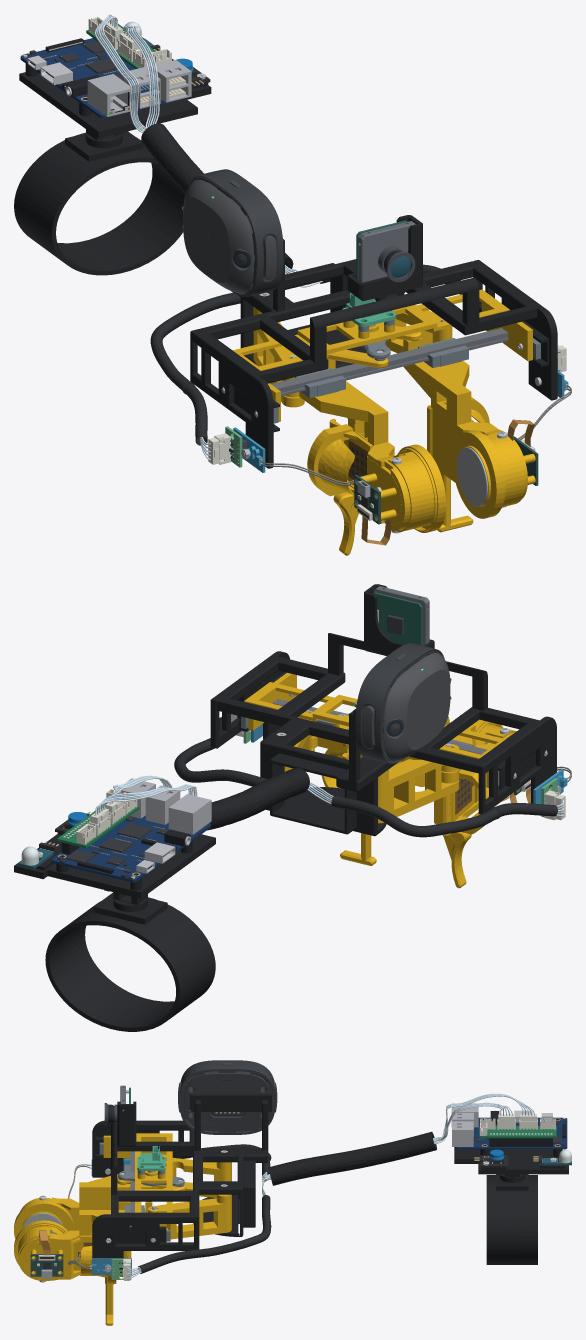
The model's file is aetherock.glb.
3 renders of one model, top to bottom at view 1: azimuth 30°, elevation 25°; view 2: azimuth 150°, elevation 25°; view 3: azimuth 270°, elevation 25°, orthographic. The views are drawn at different scales.
Visible parts, largest first — view 1: Upper Gripper Frame, Upper Arm Strap, VIVE Ultimate Tracker, Orange Pi 4 Pro Wristward Ports, Hikrobot Camera Mount, Left Fingertip Support, Right Fingertip Support, Adaptive Linkage Support, Right Force ADC XH2.54 Ribbon Cable, UMI Fingertip Back Cover 2, Controller Tray, Hikrobot MV-CB060 Camera (+18 smaller); view 2: Upper Gripper Frame, Upper Arm Strap, VIVE Ultimate Tracker, Orange Pi 4 Pro Wristward Ports, Right Force ADC XH2.54 Ribbon Cable, Controller Tray, Right Outer Link, Hikrobot Camera Mount, Braided Sleeve, Adaptive Linkage Support, Hikrobot MV-CB060 Camera, Left Force ADC XH2.54 Ribbon Cable (+7 smaller); view 3: Upper Gripper Frame, VIVE Ultimate Tracker, Upper Arm Strap, Braided Sleeve, Gripper Side Cover, Orange Pi 4 Pro Wristward Ports, Left Force ADC XH2.54 Ribbon Cable, Controller Tray, Left Outer Link, UMI Fingertip Back Cover, Adaptive Linkage Support, Left Fingertip Support (+17 smaller).
Part boxes in pixels (x1,y1,x2,y2): Upper Gripper Frame: (190, 239, 537, 468); Upper Arm Strap: (14, 132, 185, 275); VIVE Ultimate Tracker: (182, 169, 283, 296); Orange Pi 4 Pro Wristward Ports: (20, 38, 191, 118); Hikrobot Camera Mount: (310, 215, 479, 362); Left Fingertip Support: (403, 337, 527, 532); Right Fingertip Support: (285, 359, 410, 555); Adaptive Linkage Support: (233, 289, 532, 421); Right Force ADC XH2.54 Ribbon Cable: (94, 14, 286, 464); UMI Fingertip Back Cover 2: (307, 419, 401, 524); Controller Tray: (19, 39, 211, 138); Hikrobot MV-CB060 Camera: (356, 220, 415, 282); Upper Gripper Frame: (216, 656, 556, 836); Upper Arm Strap: (45, 897, 215, 1031); VIVE Ultimate Tracker: (355, 643, 451, 763); Orange Pi 4 Pro Wristward Ports: (51, 778, 211, 882); Right Force ADC XH2.54 Ribbon Cable: (90, 782, 565, 837); Controller Tray: (14, 832, 215, 898); Right Outer Link: (378, 744, 459, 823); Hikrobot Camera Mount: (328, 584, 487, 710); Braided Sleeve: (207, 768, 309, 830); Adaptive Linkage Support: (244, 672, 505, 787); Hikrobot MV-CB060 Camera: (373, 586, 429, 645); Left Force ADC XH2.54 Ribbon Cable: (105, 714, 267, 812); Upper Gripper Frame: (92, 1100, 268, 1236); VIVE Ultimate Tracker: (178, 1060, 277, 1134); Upper Arm Strap: (486, 1175, 537, 1264); Braided Sleeve: (268, 1131, 436, 1185); Gripper Side Cover: (92, 1214, 199, 1258); Orange Pi 4 Pro Wristward Ports: (451, 1103, 567, 1149); Left Force ADC XH2.54 Ribbon Cable: (123, 1102, 514, 1280); Controller Tray: (454, 1147, 568, 1174); Left Outer Link: (148, 1194, 231, 1239); UMI Fingertip Back Cover: (23, 1235, 131, 1283); Adaptive Linkage Support: (103, 1133, 172, 1229); Left Fingertip Support: (19, 1201, 152, 1325).
Bounding box in the file's own units: 226 × 187 × 443.
